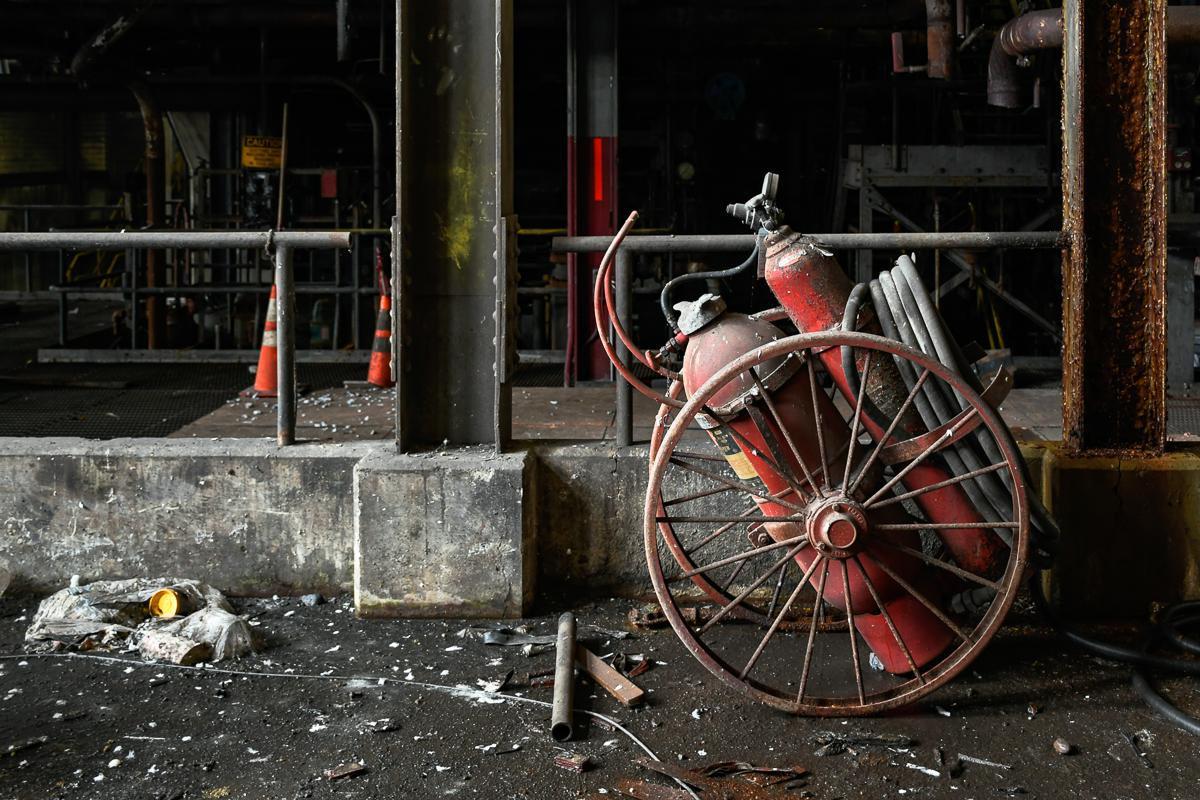Fire Extinguisher: (660, 178, 1020, 682)
